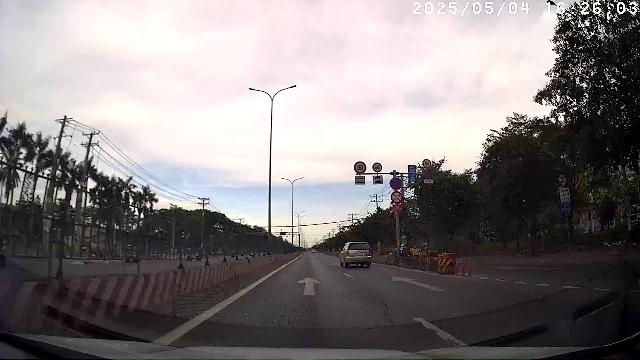127-toc-do-toi-da-50: (422, 158, 432, 168)
127-toc-do-toi-da-60: (372, 161, 383, 172)
127-toc-do-toi-da-80: (353, 160, 367, 173)
130-cam-dung-va-do-xe: (389, 177, 402, 189)
